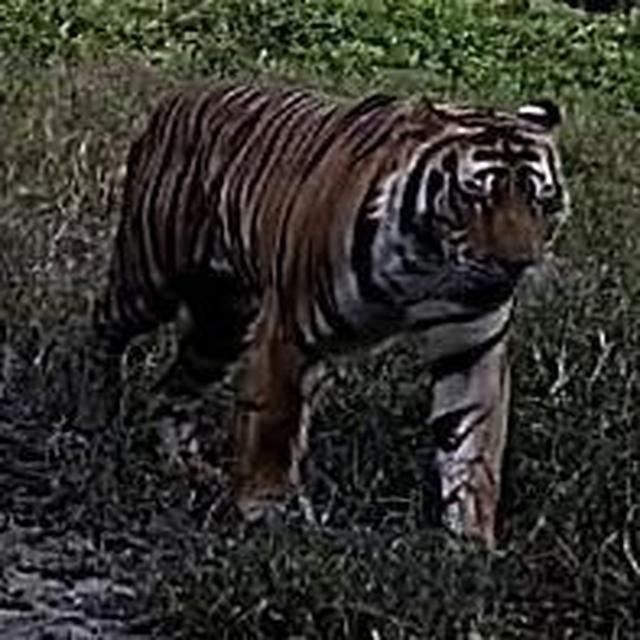tiger: (83, 73, 579, 563)
